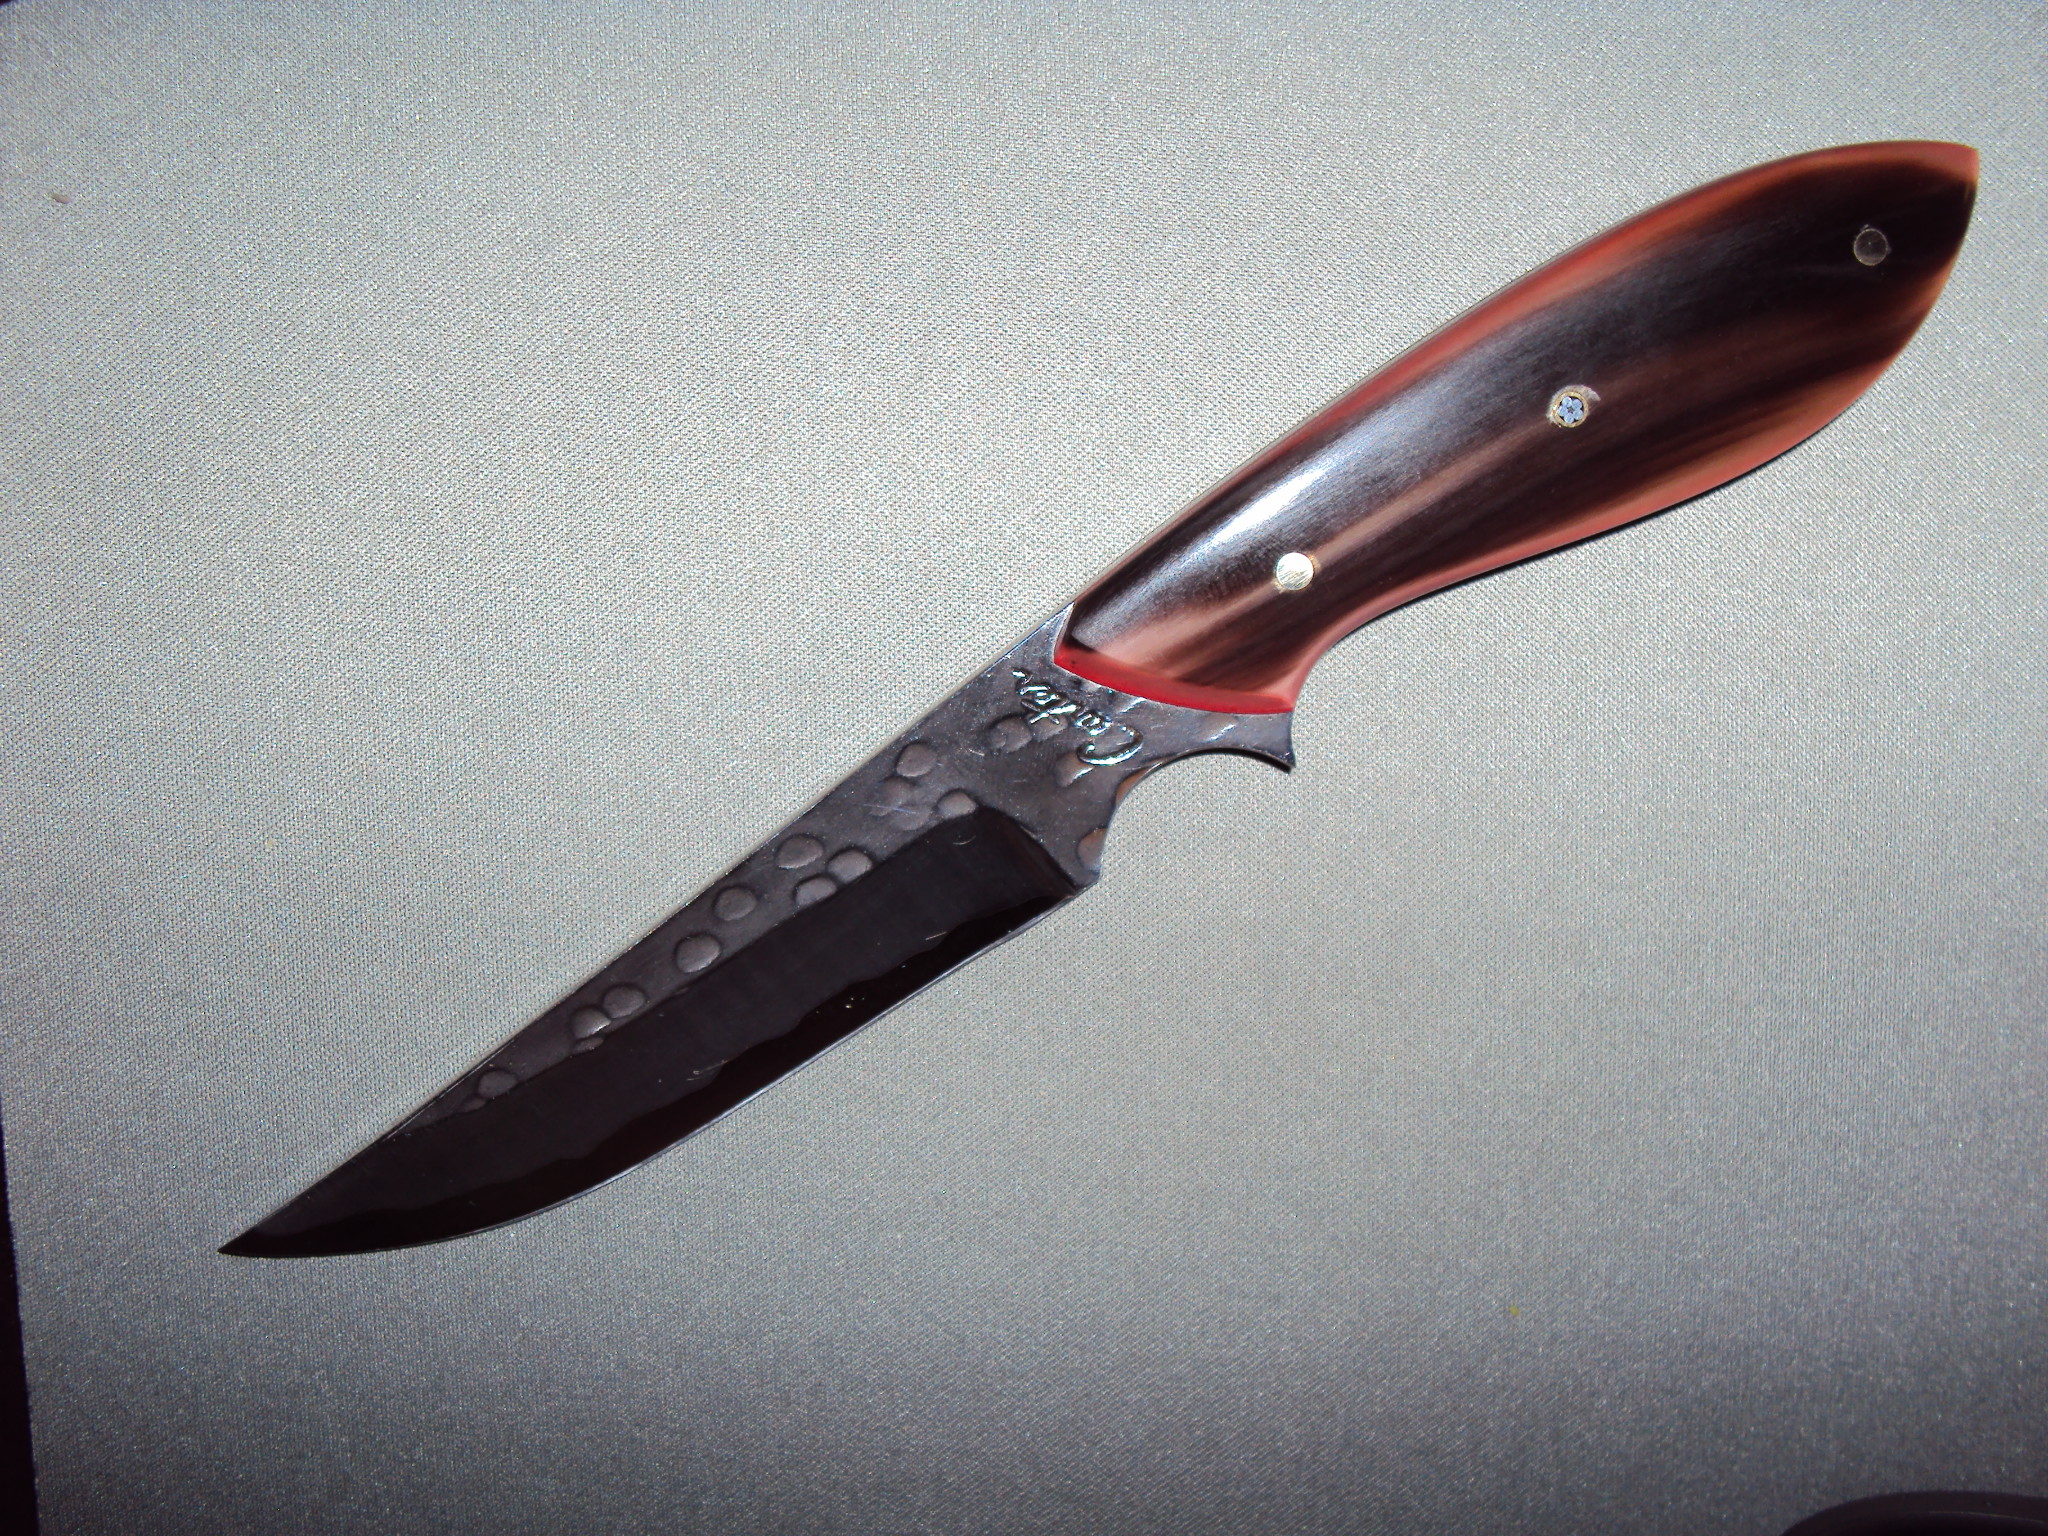knife: (202, 118, 1988, 1326)
